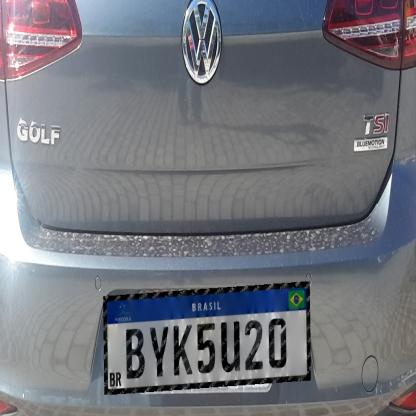PlacaM: (103, 282, 311, 394)
